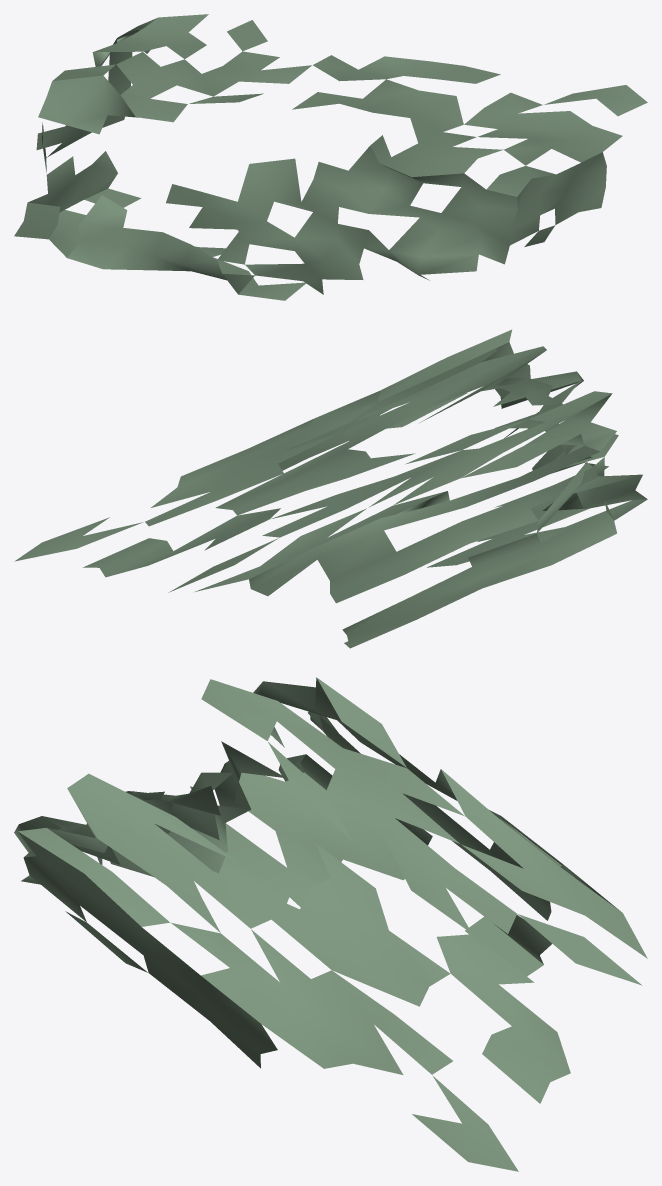
File: 04 Broken_box.FBX
The picture shows the model from 3 angles, top to bottom: view 1: azimuth 30°, elevation 25°; view 2: azimuth 150°, elevation 25°; view 3: azimuth 270°, elevation 25°; orthographic projection. The views are drawn at different scales.
Visible parts, largest first — view 1: Box083; view 2: Box083; view 3: Box083.
Part boxes in pixels (<box>): Box083: <box>14,14,647,300</box>; Box083: <box>14,329,647,648</box>; Box083: <box>14,677,647,1171</box>.
Size of the model in its own units: 1889 by 659 by 1707.
